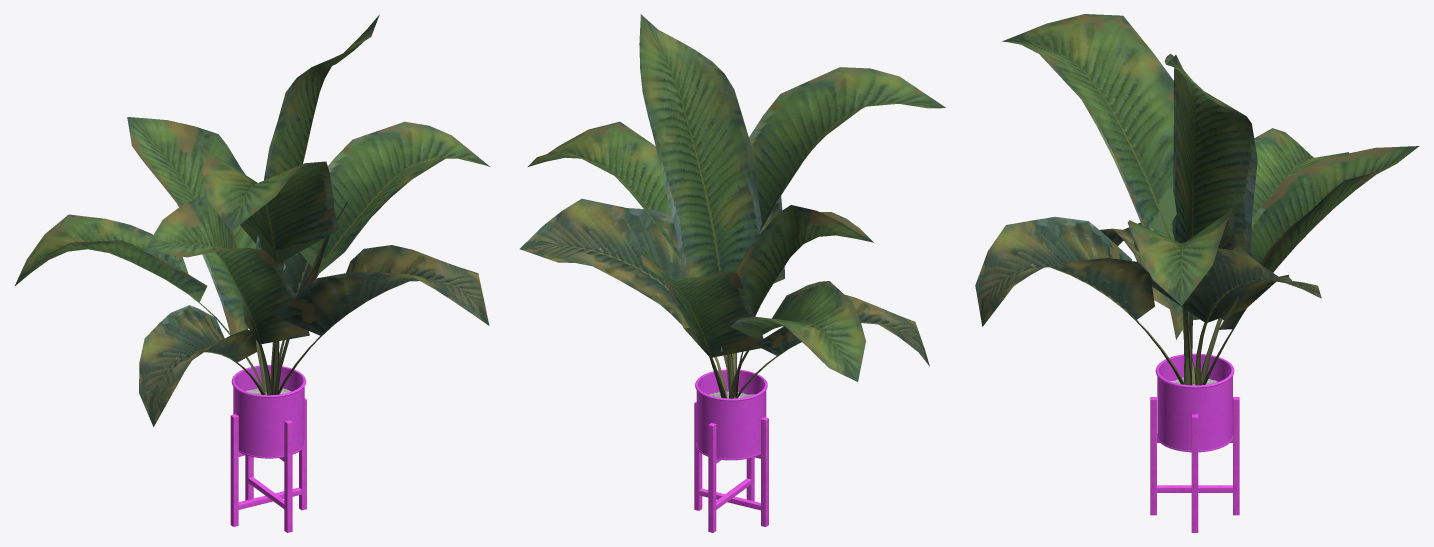
The model's file is tree.glb.
The picture shows the model from 3 angles, left to right: view 1: azimuth 30°, elevation 25°; view 2: azimuth 150°, elevation 25°; view 3: azimuth 270°, elevation 25°; orthographic projection. The views are drawn at different scales.
Parts seen in each view (by area): view 1: Small Palm Med, Small Palm Med Potted; view 2: Small Palm Med, Small Palm Med Potted; view 3: Small Palm Med, Small Palm Med Potted.
Part boxes in pixels (left/top/right/bottom): Small Palm Med: left=14, top=14, right=489, bottom=426; Small Palm Med Potted: left=230, top=365, right=306, bottom=532; Small Palm Med: left=519, top=14, right=945, bottom=398; Small Palm Med Potted: left=694, top=369, right=768, bottom=532; Small Palm Med: left=975, top=14, right=1419, bottom=385; Small Palm Med Potted: left=1150, top=353, right=1239, bottom=532.
Bounding box in the file's own units: 2.02 × 2.3 × 1.81.
4 materials, 4 textured.
